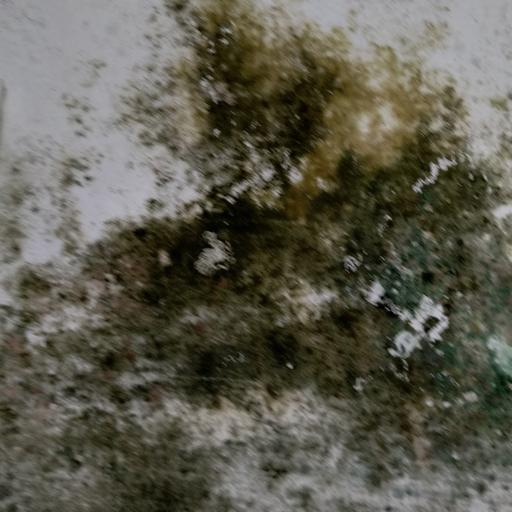algae: (49, 38, 489, 434)
